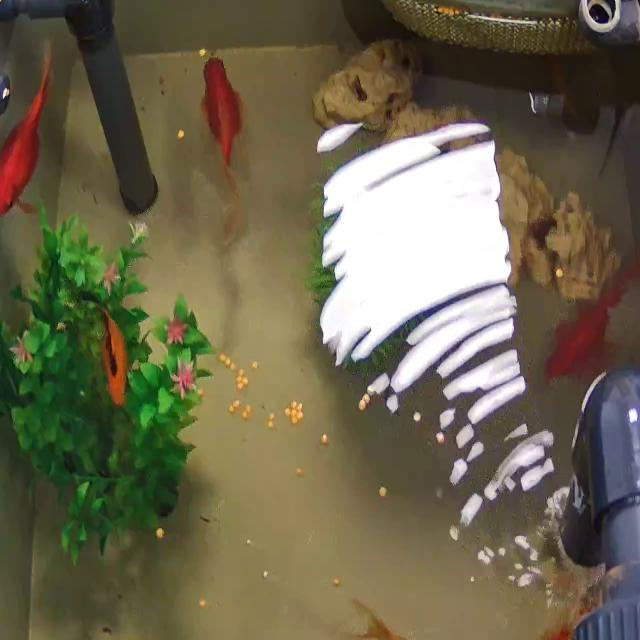fish: (541, 231, 640, 379), (0, 41, 55, 218), (193, 54, 244, 207), (356, 598, 478, 640), (98, 305, 129, 408)
